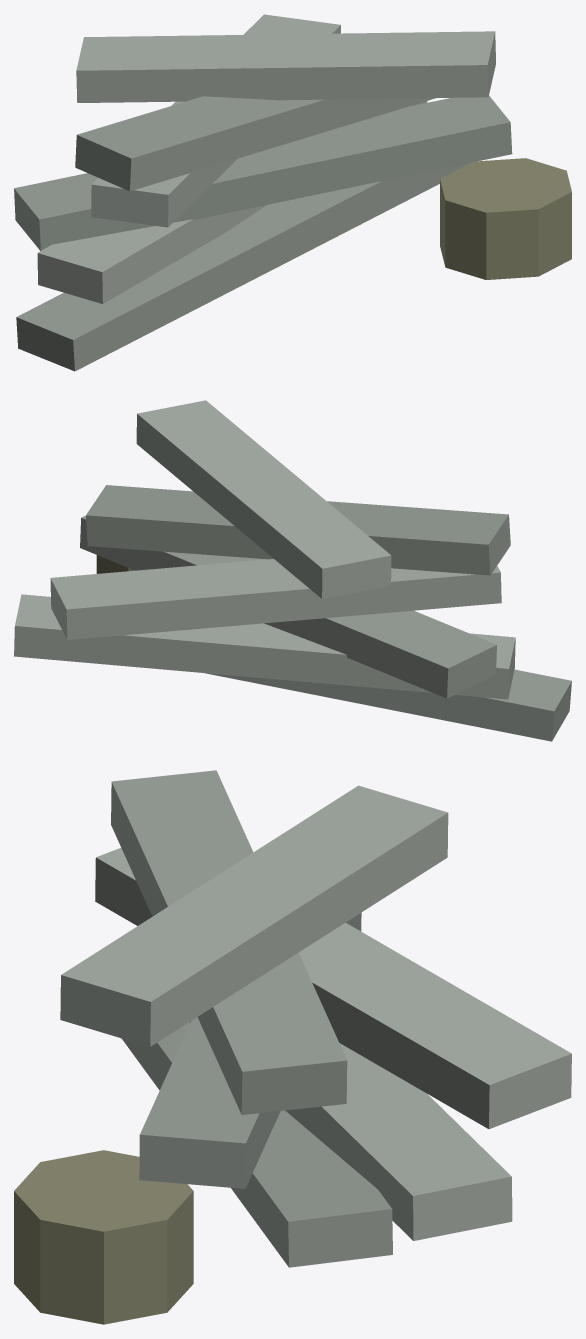
Rendered from env_r14_driftwood_pile.glb.
3 renders of one model, top to bottom at view 1: azimuth 30°, elevation 25°; view 2: azimuth 150°, elevation 25°; view 3: azimuth 270°, elevation 25°, orthographic. The views are drawn at different scales.
Parts seen in each view (by area): view 1: env_r14_driftwood_pile; view 2: env_r14_driftwood_pile; view 3: env_r14_driftwood_pile.
Boxes of the visible parts, x1,y1,x2,y2 form: env_r14_driftwood_pile: (14, 14, 571, 371); env_r14_driftwood_pile: (14, 400, 571, 741); env_r14_driftwood_pile: (14, 770, 571, 1324).
Size of the model in its own units: 2.2 by 0.9 by 1.5.
1 material, 1 textured.
